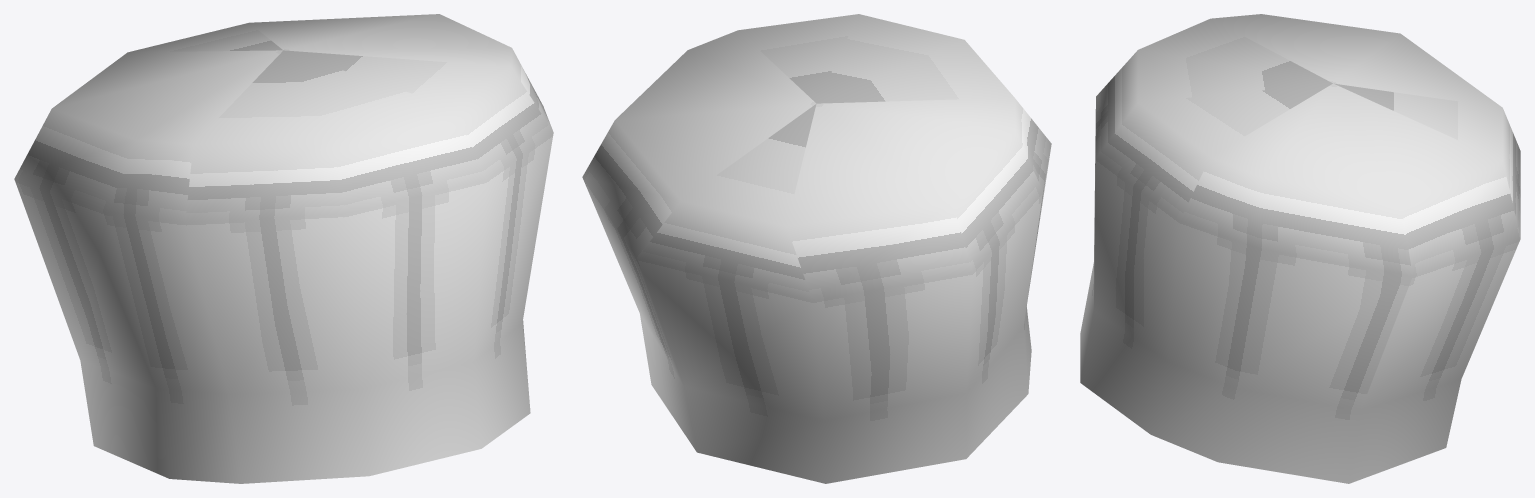
3 renders of one model, left to right at view 1: azimuth 30°, elevation 25°; view 2: azimuth 150°, elevation 25°; view 3: azimuth 270°, elevation 25°, orthographic. The views are drawn at different scales.
Visible parts, largest first — view 1: code_head61; view 2: code_head61; view 3: code_head61.
Part boxes in pixels (<box>): code_head61: <box>14,14,553,483</box>; code_head61: <box>582,14,1051,483</box>; code_head61: <box>1080,14,1520,483</box>.
Bounding box in the file's own units: 0.7817 × 0.6333 × 0.7449.
1 material, 1 textured.
